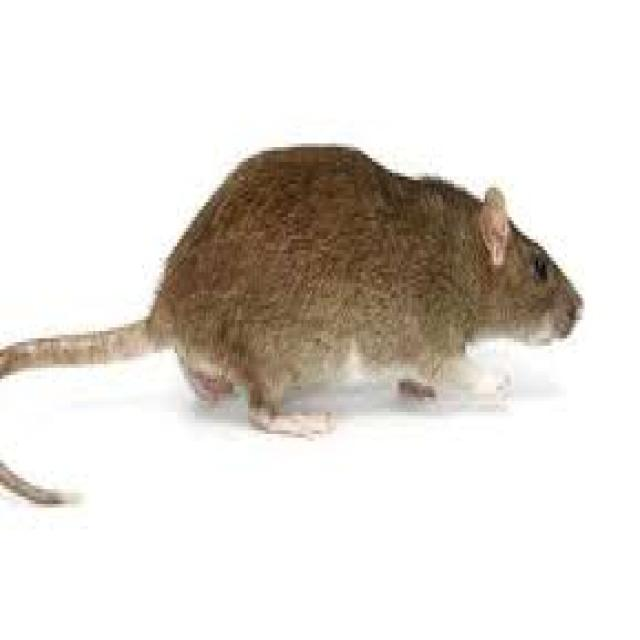rat: (132, 130, 594, 482)
